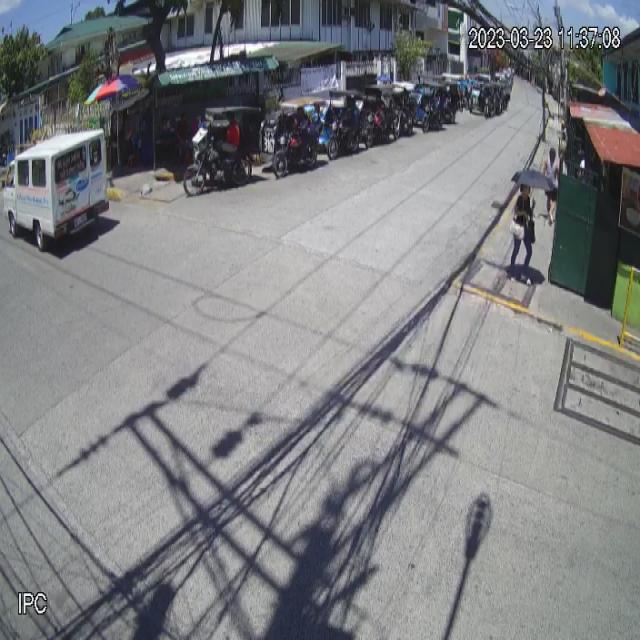Van: (1, 128, 110, 253)
